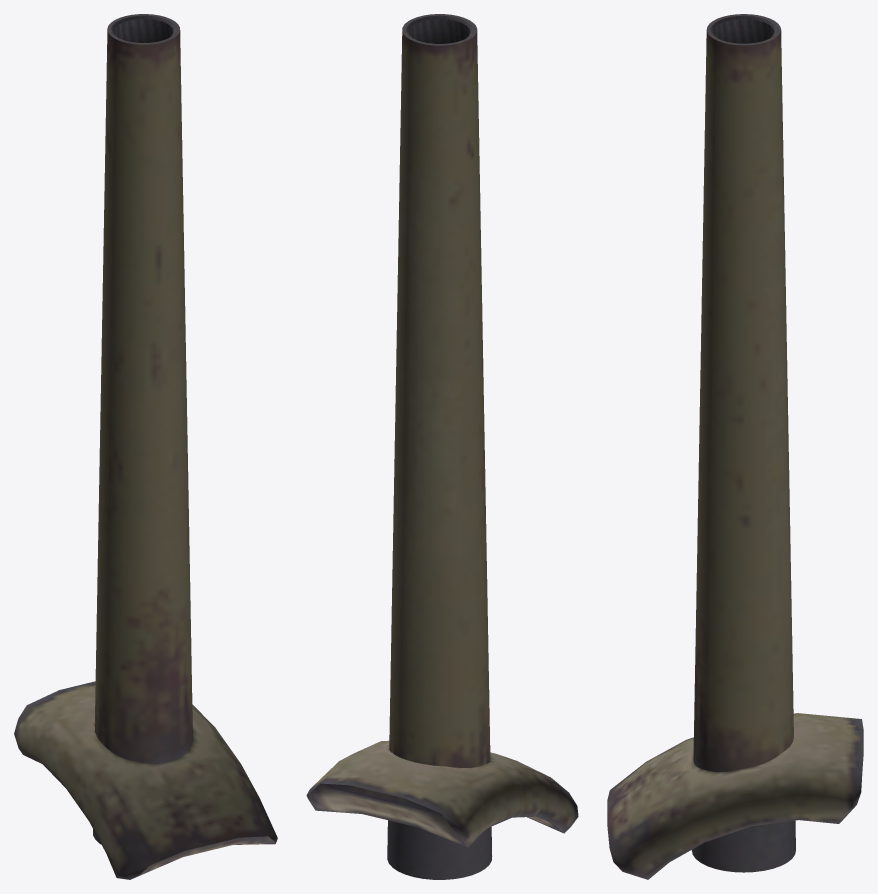
File: Gun_05.glb
3 views of the same model, side by side, from view 1: azimuth 30°, elevation 25°; view 2: azimuth 150°, elevation 25°; view 3: azimuth 270°, elevation 25° (orthographic). The views are drawn at different scales.
Visible parts, largest first — view 1: set_0_group_0; view 2: set_0_group_0; view 3: set_0_group_0.
Boxes of the visible parts, x1,y1,x2,y2 form: set_0_group_0: (14,14,277,879); set_0_group_0: (306,14,578,879); set_0_group_0: (607,14,863,879).
Bounding box in the file's own units: 0.2979 × 1.46 × 0.4138.
1 material, 1 textured.
